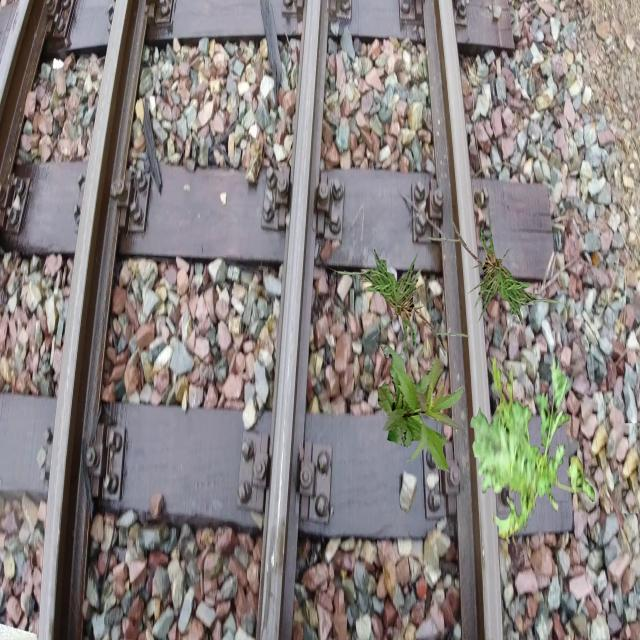Plant: (470, 352, 595, 548), (427, 206, 570, 326), (326, 248, 469, 368), (378, 343, 466, 473)
